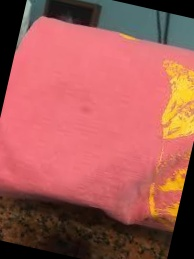oil: (73, 92, 99, 117)
